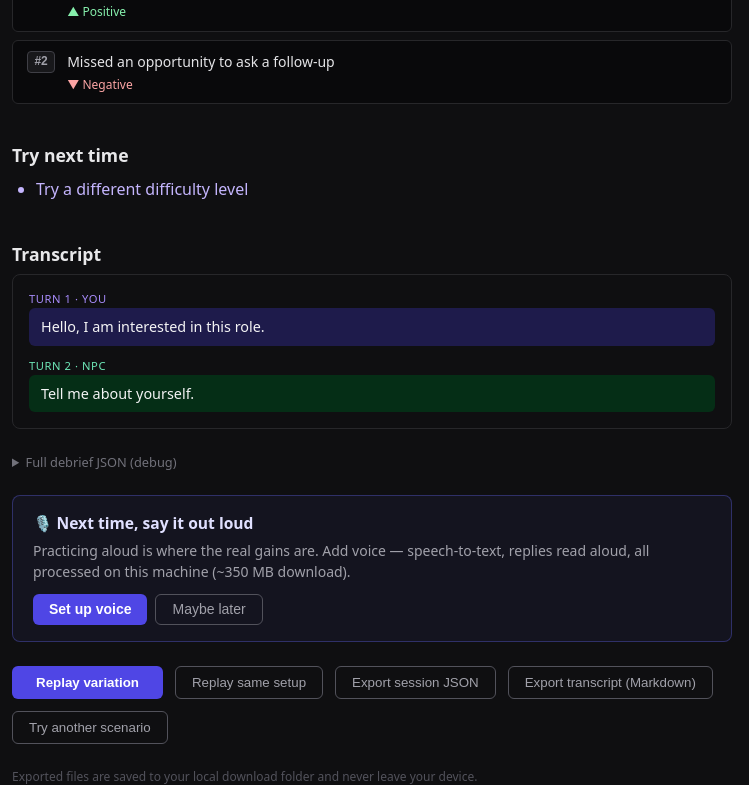
Test: Debrief screen › voice invite card (issue #385) › "Maybe later" hides the card and persists dismissed state
This screenshot has width=749, height=785.
(page scrolled)
Expected: the element with test id "voice-invite-card" is shown, [12,495,732,642]
Click the button with test id "voice-invite-later-btn". click: (209, 609)
box: [156,594,263,625]
(page scrolled)
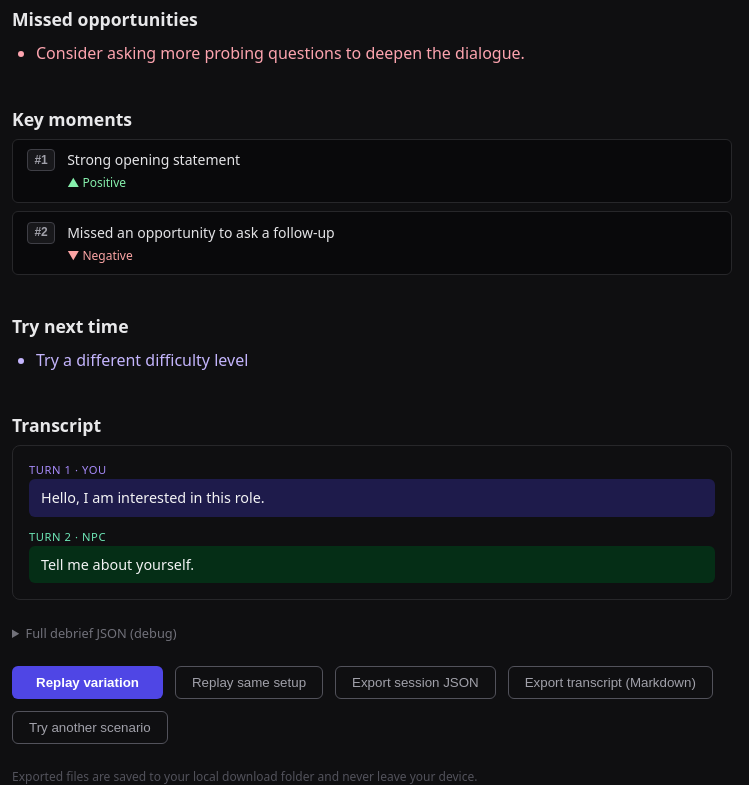
Now the element with test id "voice-invite-card" is gone
